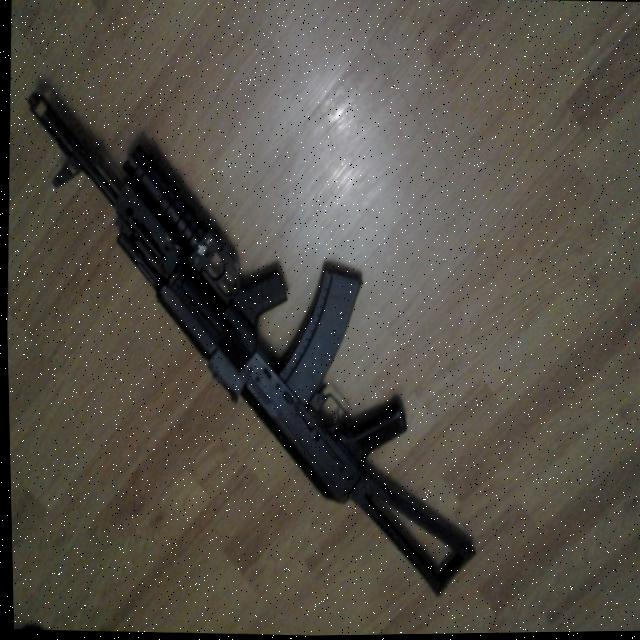firearm: (9, 84, 493, 607)
